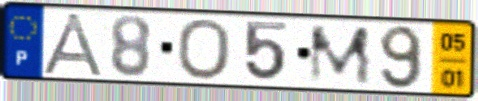5: (241, 19, 292, 84)
8: (109, 13, 154, 80)
9: (376, 23, 428, 92)
A: (38, 11, 110, 78)
M: (306, 24, 375, 86)
O: (175, 16, 234, 82)
